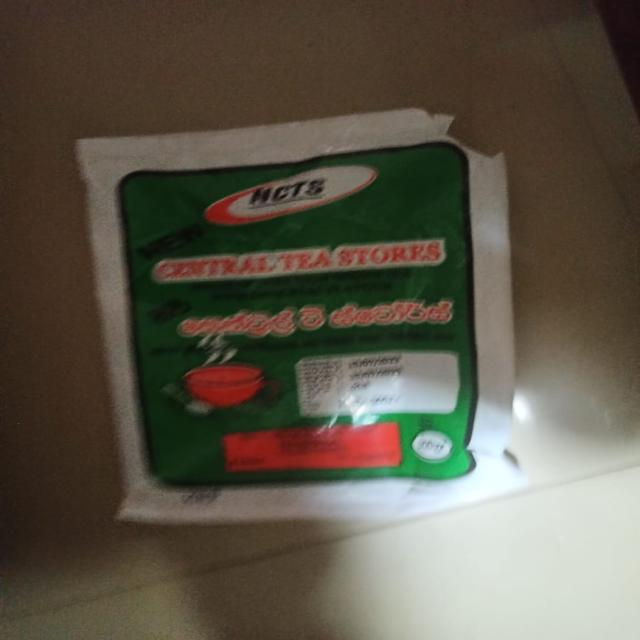Central Tea: (91, 146, 529, 530)
